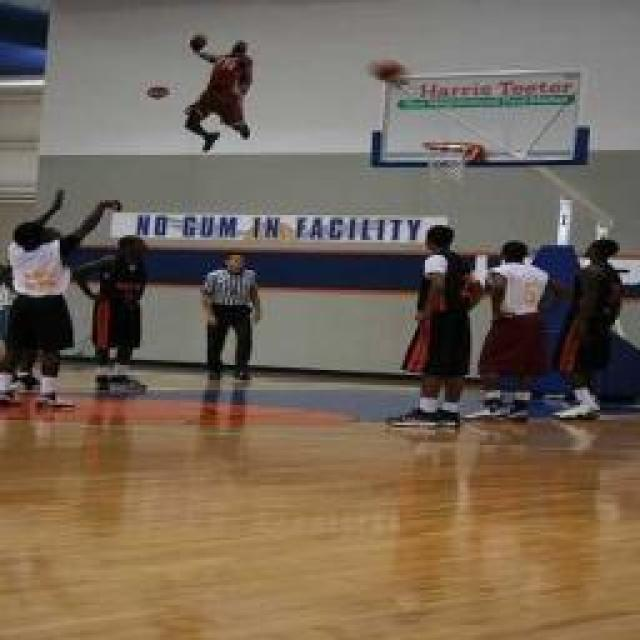basketball: (366, 55, 409, 87)
hoop: (421, 140, 479, 185)
